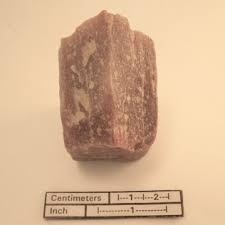obstacle: (59, 10, 156, 159)
